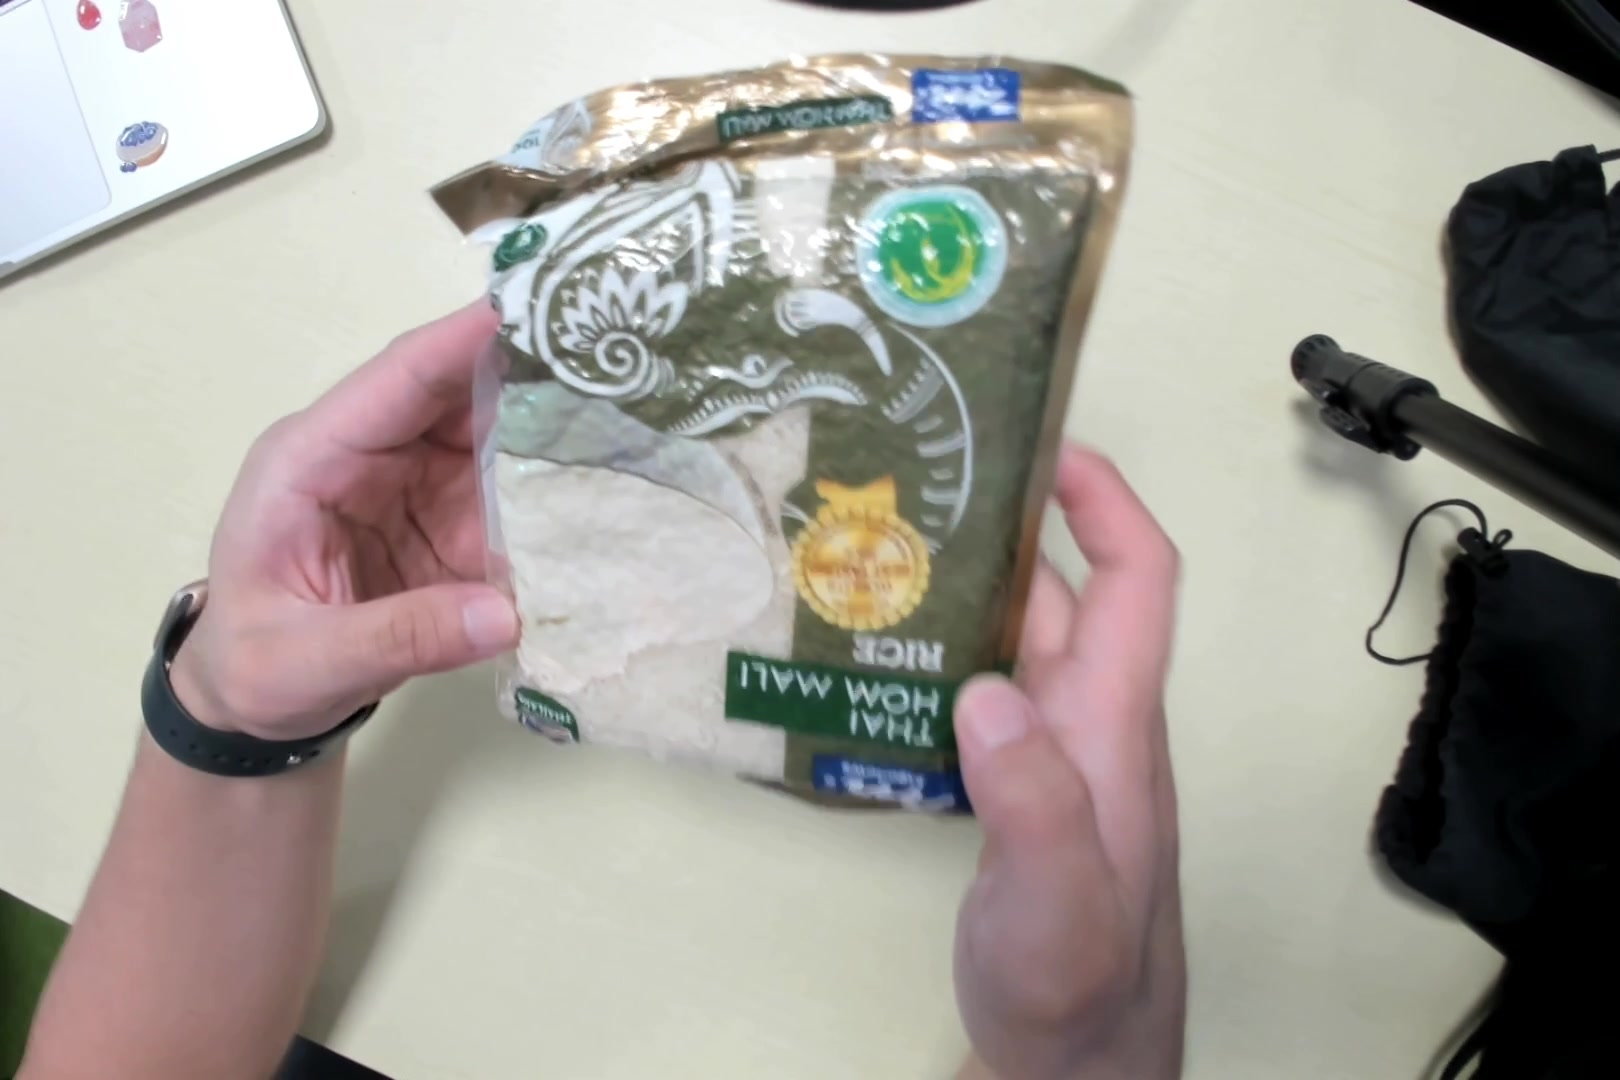Rice(White)_500-599g_NonHalal_NonHealthy: (472, 49, 1117, 824)
